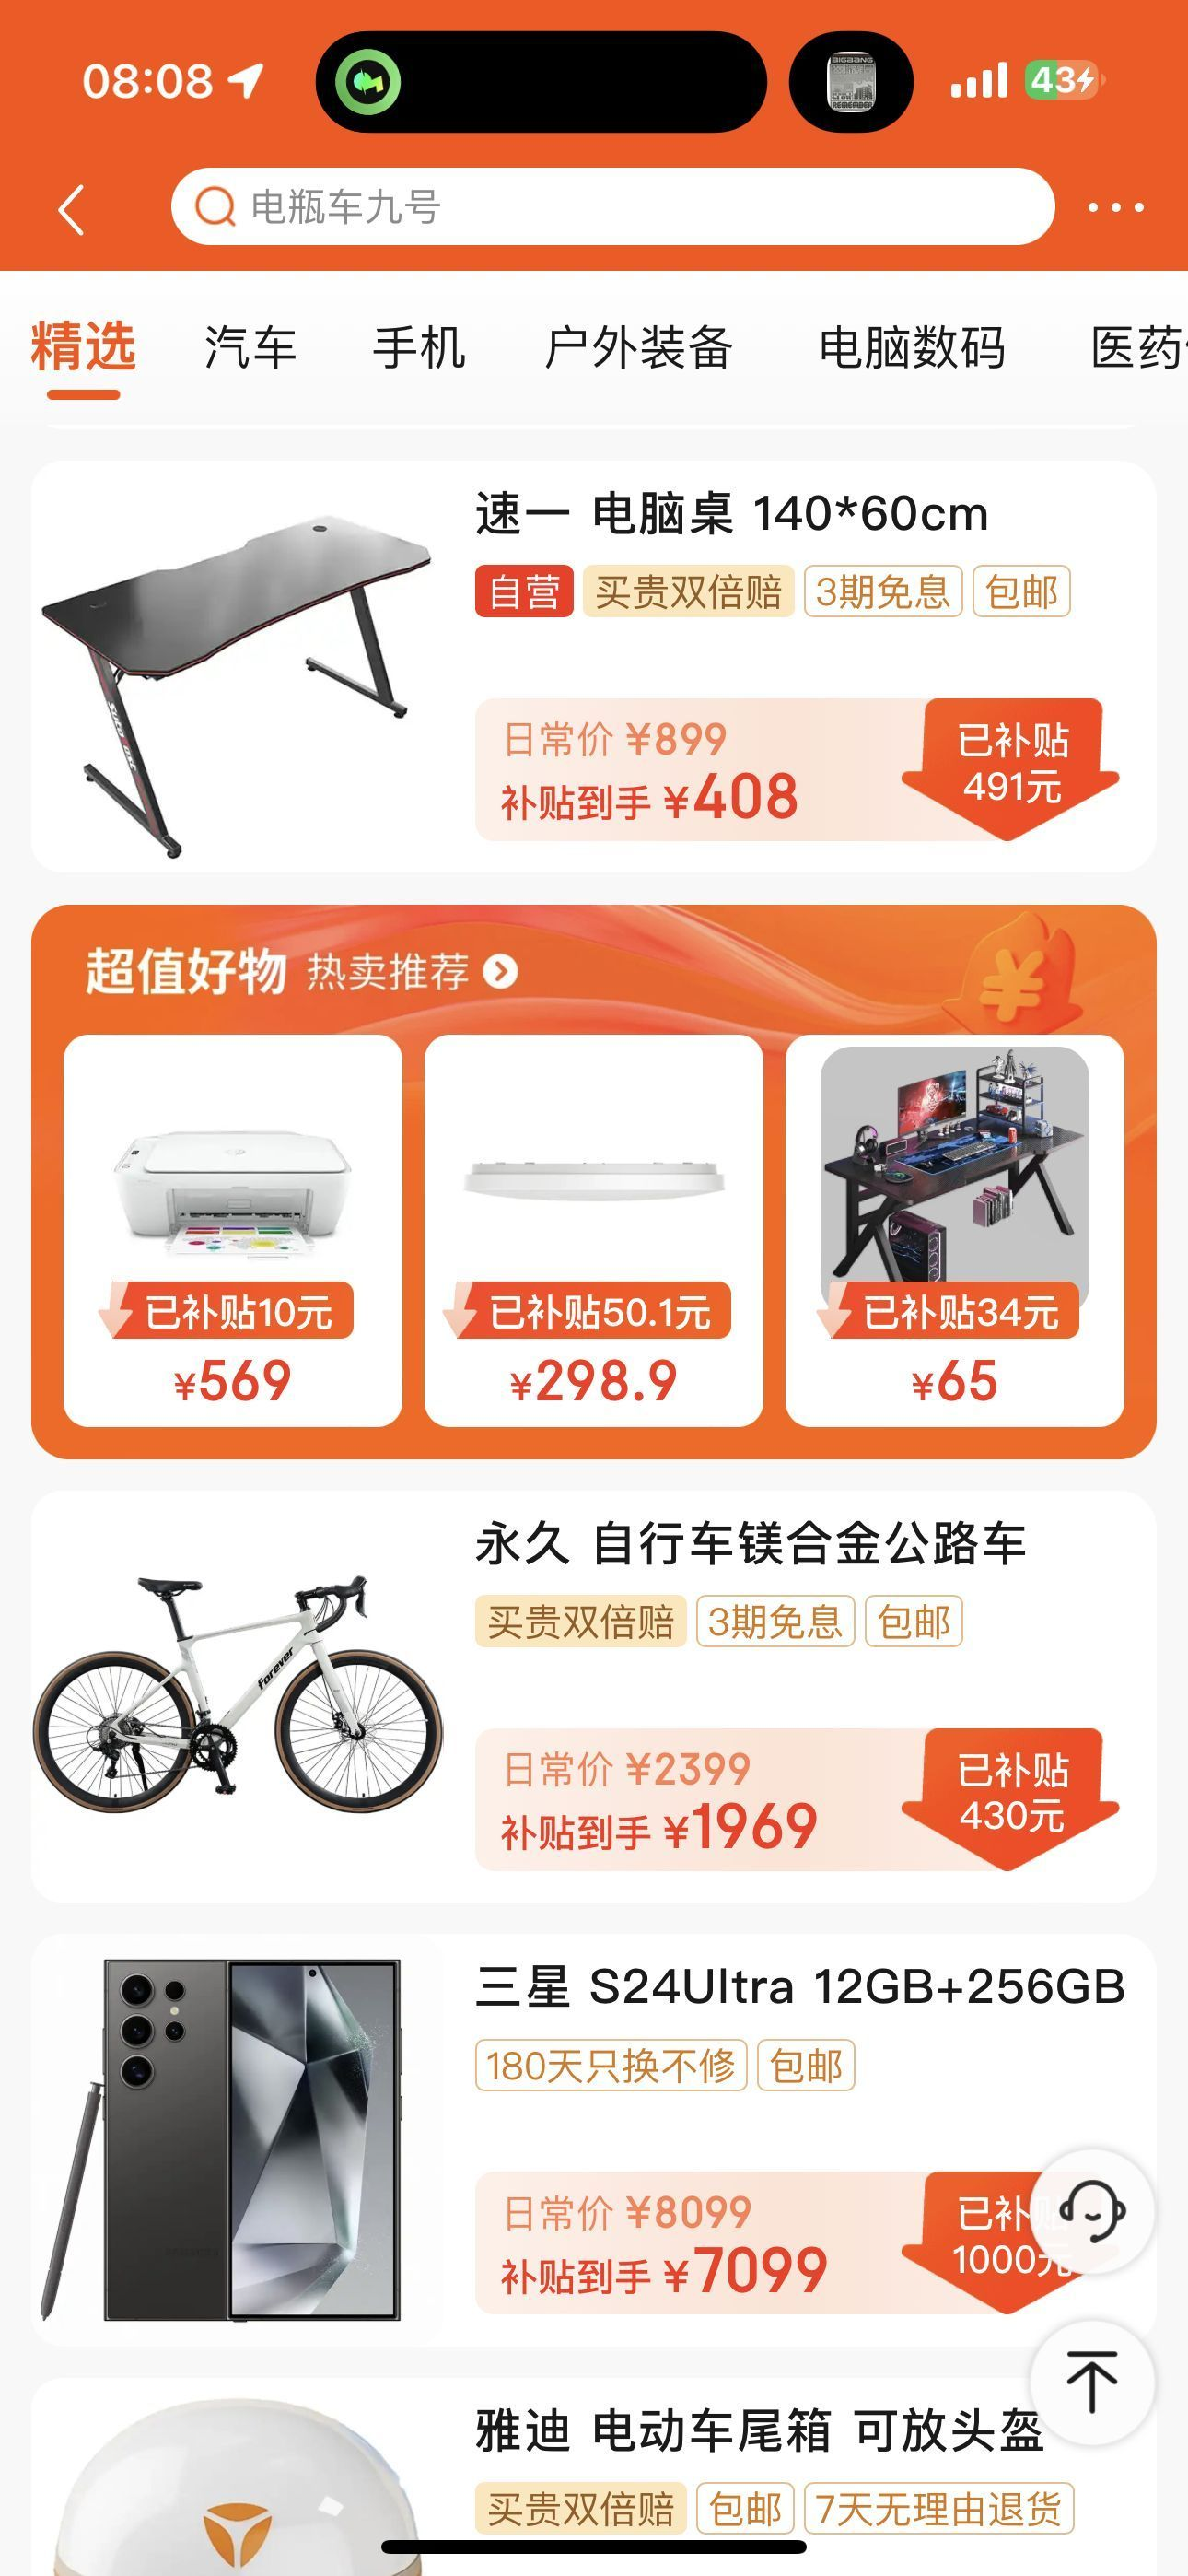banner: (35, 902, 1158, 1457)
item: (33, 1490, 1163, 1912), (30, 1935, 1167, 2354), (35, 453, 1158, 869)
op_bar: (18, 146, 1175, 256)
